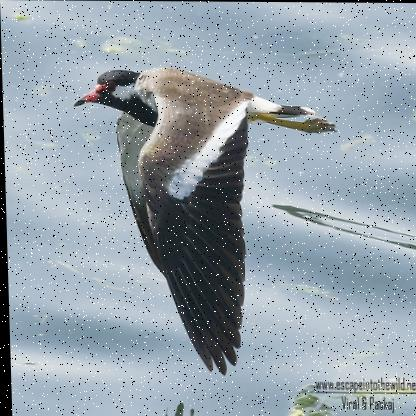Burung: (70, 67, 341, 375)
